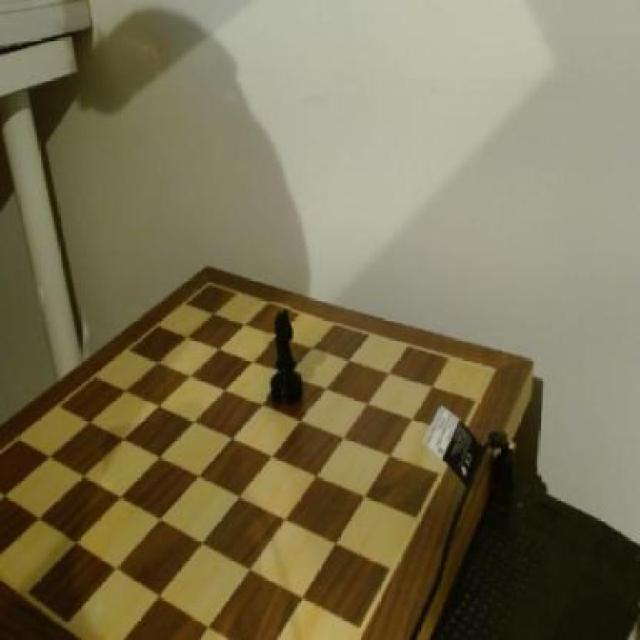black-king: (268, 303, 313, 413)
